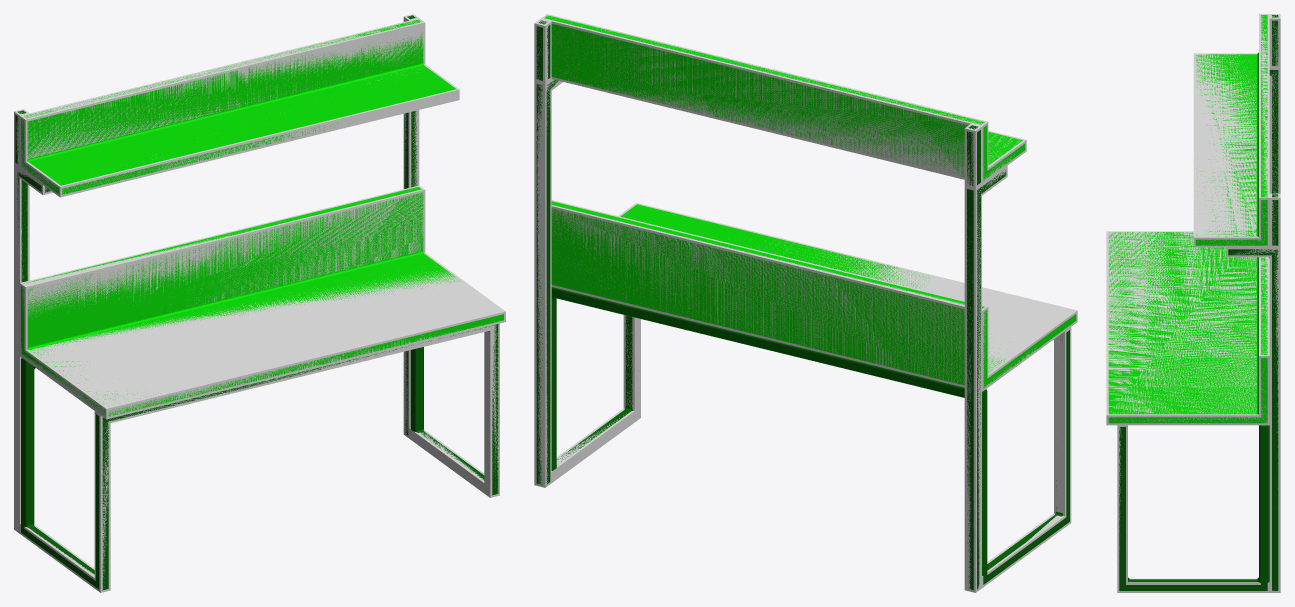
File: Lab Table.fbx
3 renders of one model, left to right at view 1: azimuth 30°, elevation 25°; view 2: azimuth 150°, elevation 25°; view 3: azimuth 270°, elevation 25°, orthographic. The views are drawn at different scales.
Visible parts, largest first — view 1: Col, Plane.661; view 2: Plane.661, Col; view 3: Col, Plane.661.
Boxes of the visible parts, x1=… form: Col: x1=14, y1=14, x2=505, y2=592; Plane.661: x1=15, y1=15, x2=503, y2=590; Plane.661: x1=536, y1=15, x2=1076, y2=589; Col: x1=534, y1=14, x2=1077, y2=592; Col: x1=1106, y1=14, x2=1280, y2=592; Plane.661: x1=1108, y1=15, x2=1278, y2=590.
Bounding box in the file's own units: 2 × 2 × 0.8.
